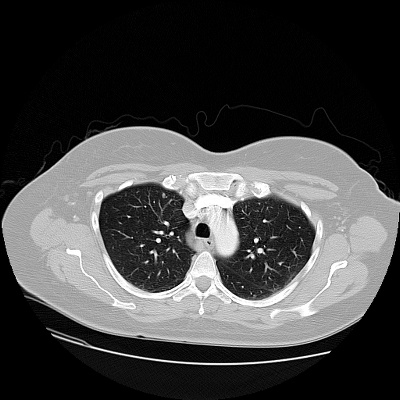PN: (161, 193, 165, 197)
